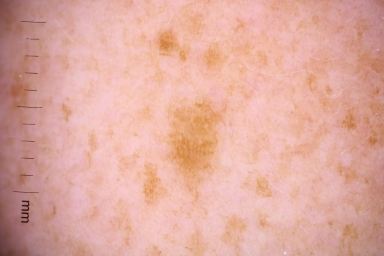melanoma: (171, 99, 225, 204)
